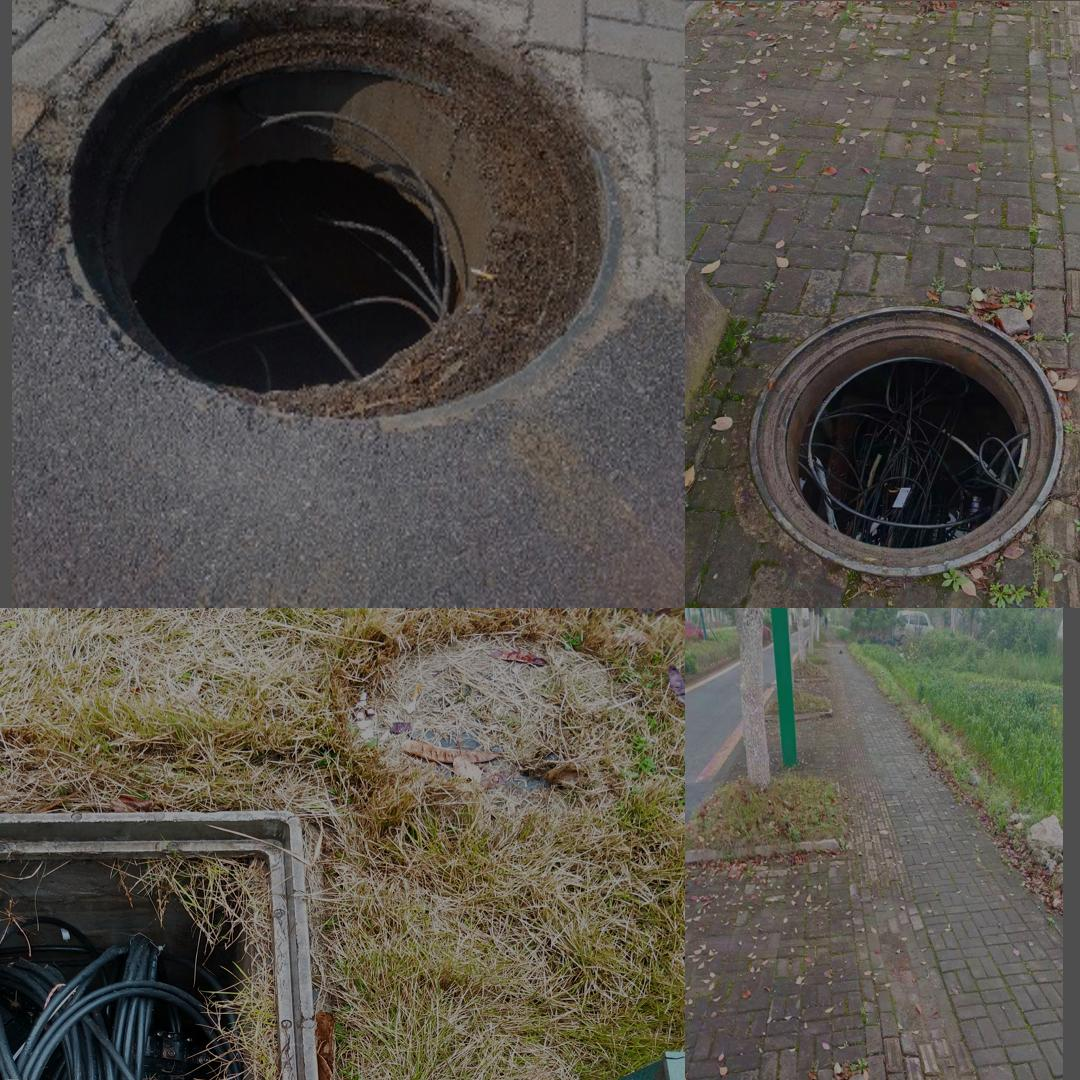lose: (63, 0, 624, 423), (0, 798, 339, 1080), (748, 305, 1062, 579)
